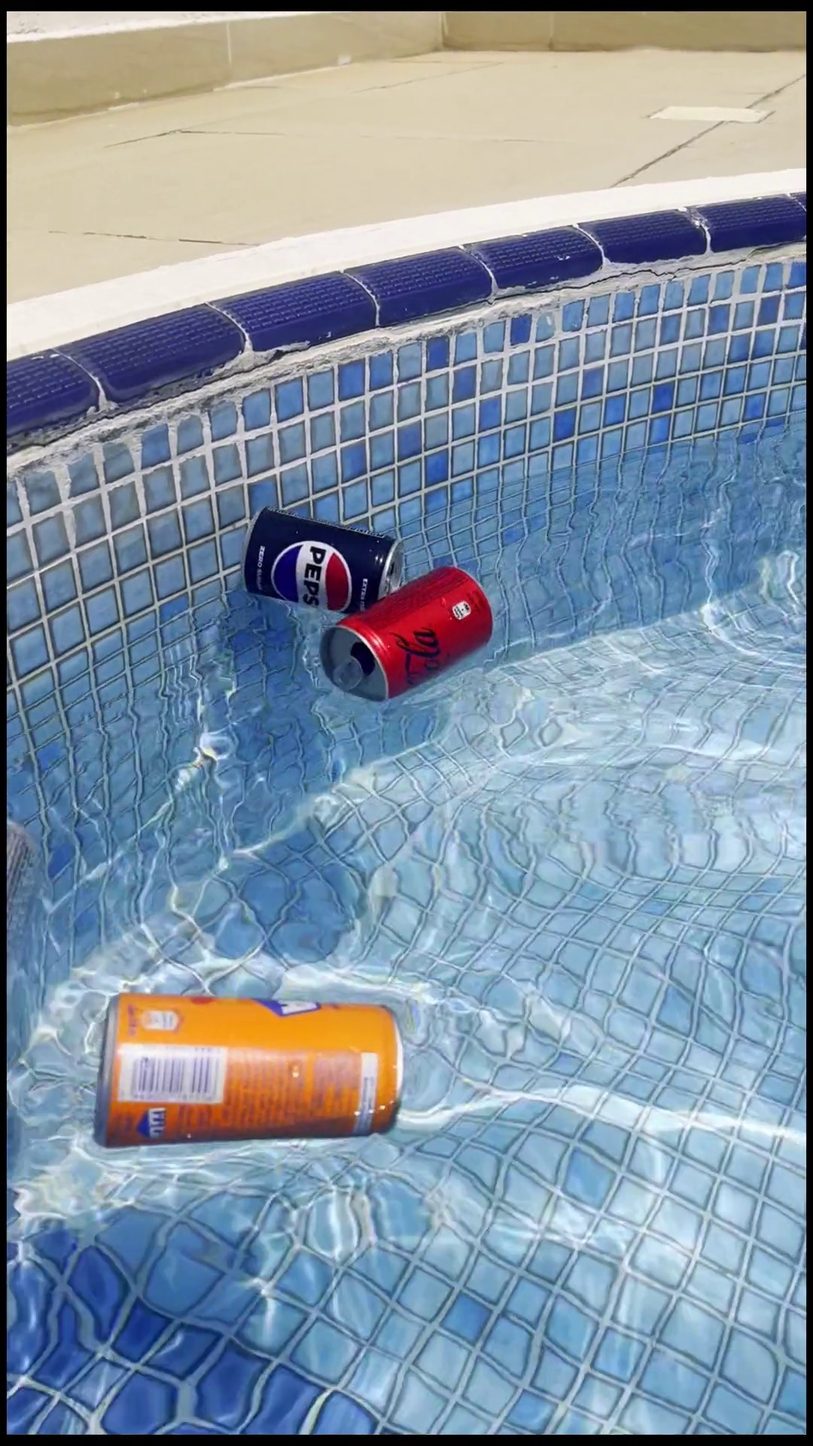debris: (88, 949, 410, 1197), (314, 546, 495, 725), (235, 472, 406, 642)
